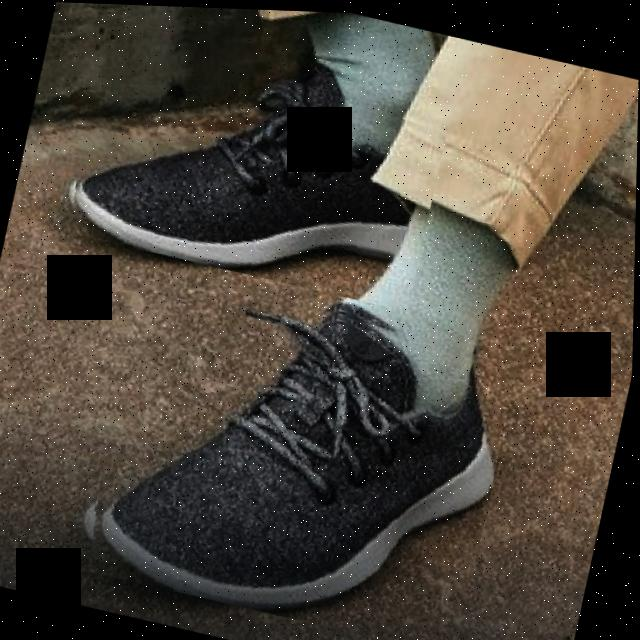shoe: (67, 254, 525, 640), (59, 38, 451, 310)
